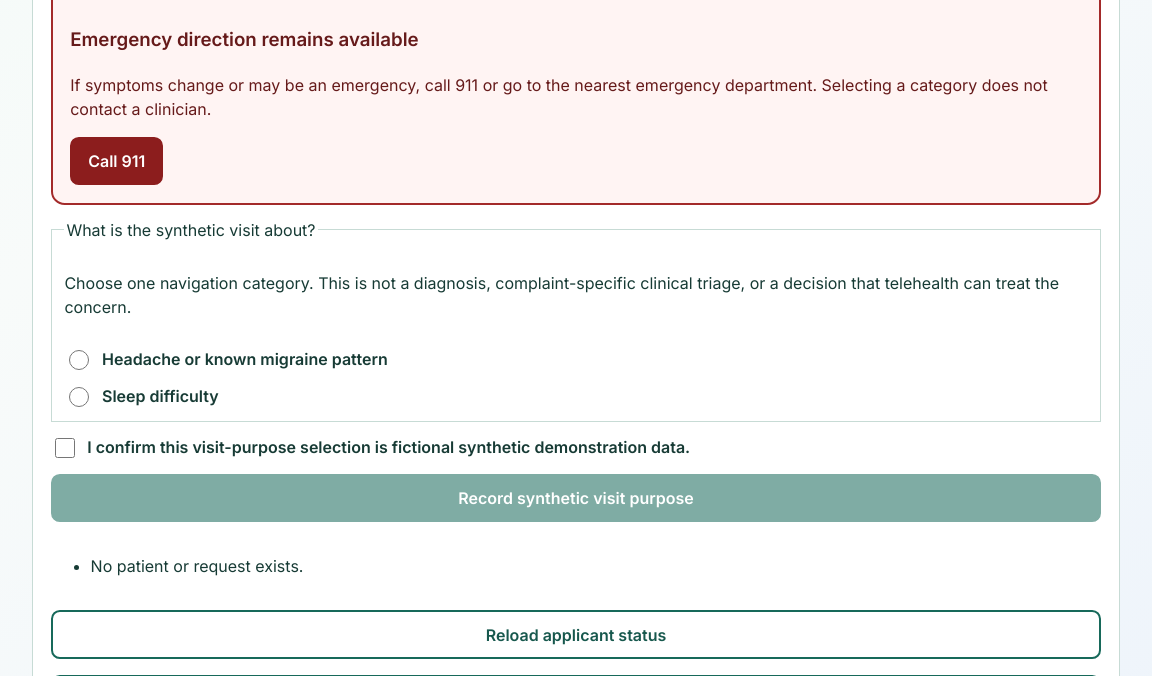
Test: ProspectivePatientTelehealthEntry safety triage › records one controlled purpose with a stable retry identity and no browser persistence
(page scrolled)
Expected: the text "not a diagnosis, complaint-specific clinical triage" is shown, 64,273 -> 1059,317
Click the radio button labelled "Headache or known migraine pattern". click: (79,360)
box: 69,350 -> 89,370
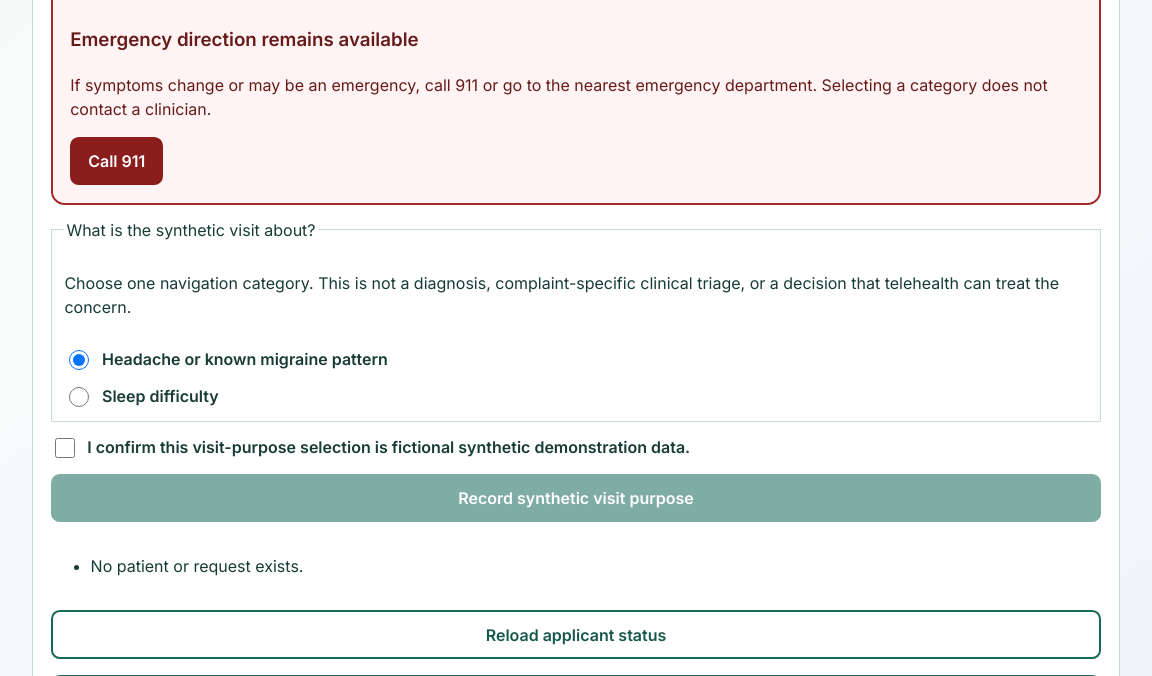
Click the checkbox labelled "visit-purpose selection is fictional synthetic demonstration data". click: (65,448)
box: 55,438 -> 75,458
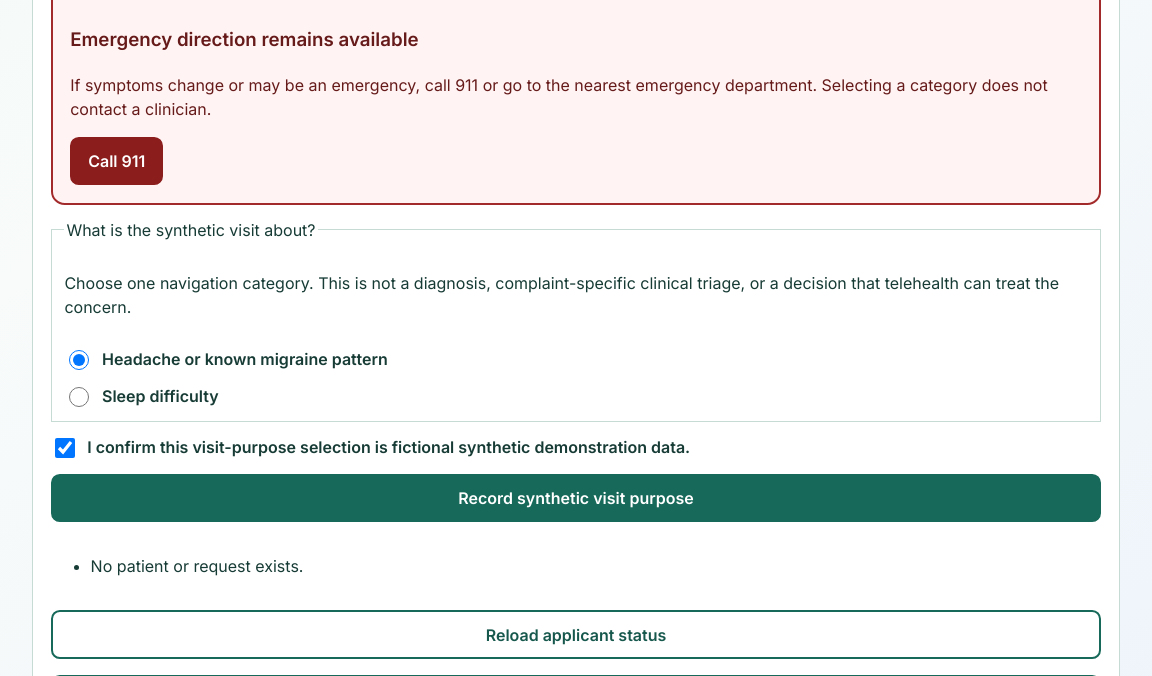
Click the button "Record synthetic visit purpose". click: (576,498)
box: 51,474 -> 1101,522
(page scrolled)
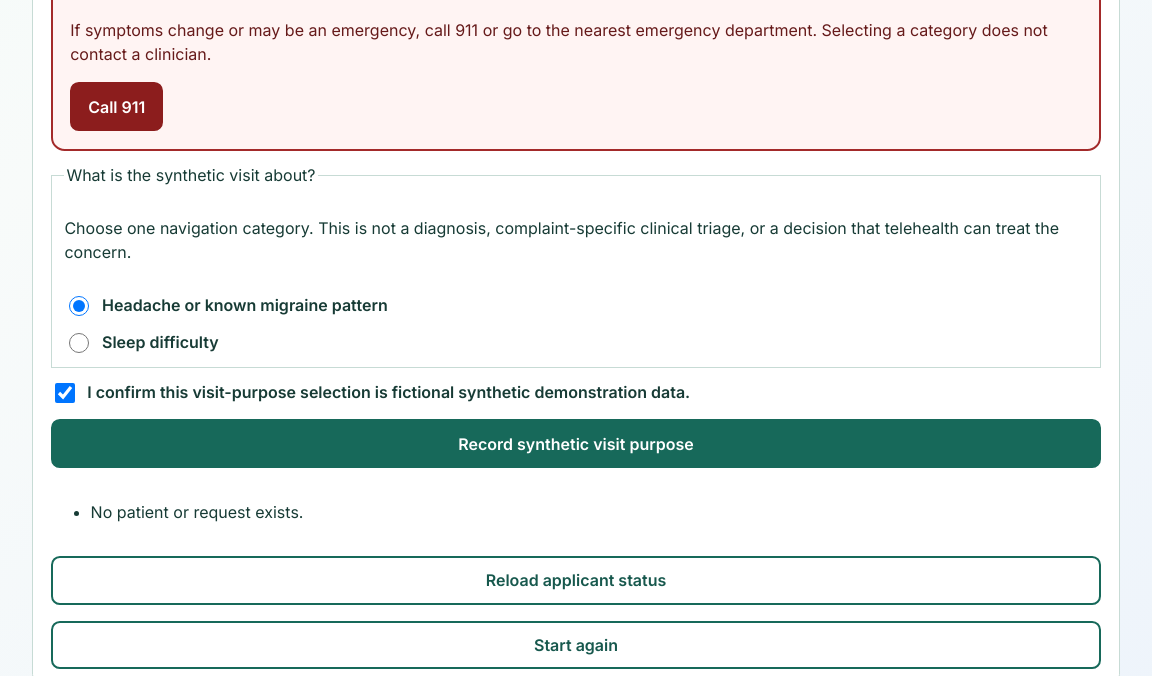
Expected: the radio button labelled "Headache or known migraine pattern" is checked, 69,296 -> 89,316
Click the button "Record synthetic visit purpose". click: (576,444)
box: 51,419 -> 1101,468
(page scrolled)
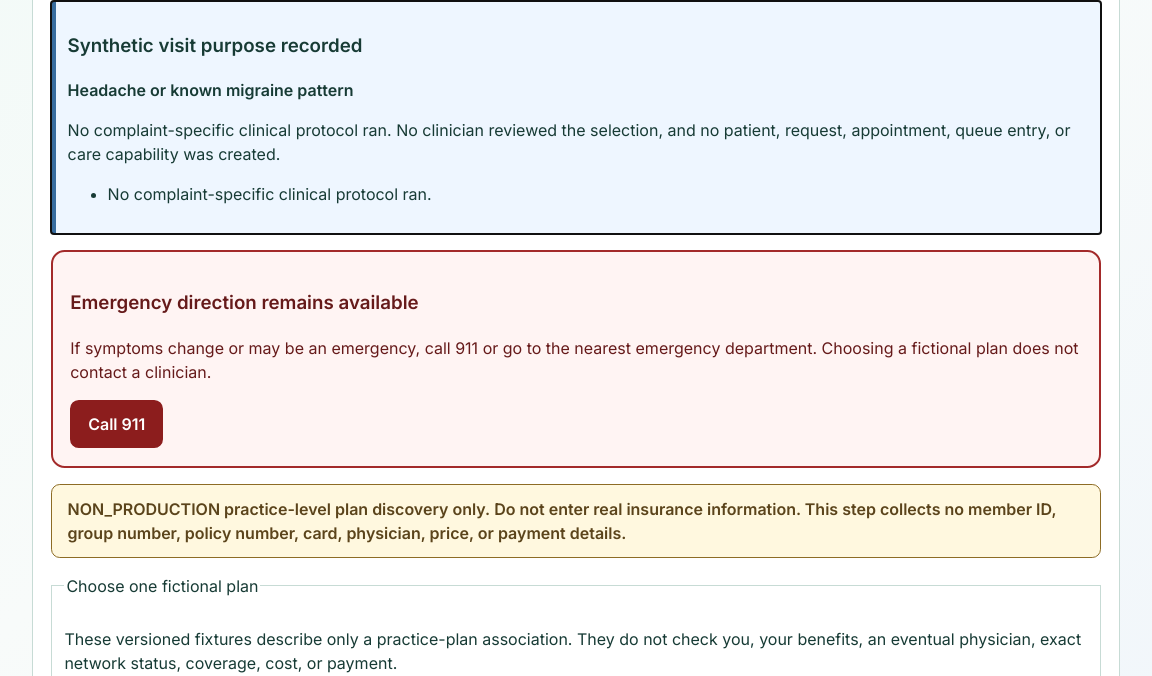
Expected: the message shows "Synthetic visit purpose recorded", 68,34 -> 362,57
Expected: the message shows "No complaint-specific clinical protocol ran", 68,120 -> 1070,164
